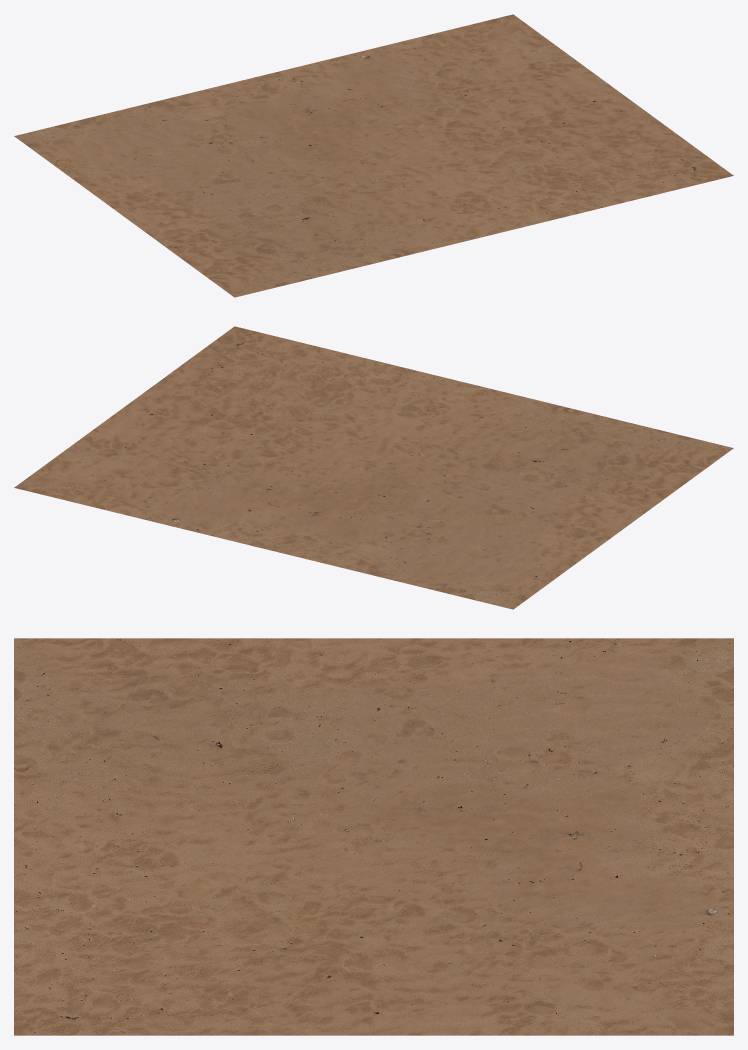
File: WolfkingField.fbx
3 renders of one model, top to bottom at view 1: azimuth 30°, elevation 25°; view 2: azimuth 150°, elevation 25°; view 3: azimuth 270°, elevation 25°, orthographic. The views are drawn at different scales.
Parts seen in each view (by area): view 1: M4_Shared_AncientRuins_Env_Plane_SM_YSJ; view 2: M4_Shared_AncientRuins_Env_Plane_SM_YSJ; view 3: M4_Shared_AncientRuins_Env_Plane_SM_YSJ.
Boxes of the visible parts, left/top/right/bottom form: M4_Shared_AncientRuins_Env_Plane_SM_YSJ: left=14, top=14, right=733, bottom=297; M4_Shared_AncientRuins_Env_Plane_SM_YSJ: left=14, top=326, right=733, bottom=609; M4_Shared_AncientRuins_Env_Plane_SM_YSJ: left=14, top=638, right=733, bottom=1035.
Bounding box in the file's own units: 6.72e+07 × 0 × 5.15e+07.
Materials: 1 (1 with a texture image).
